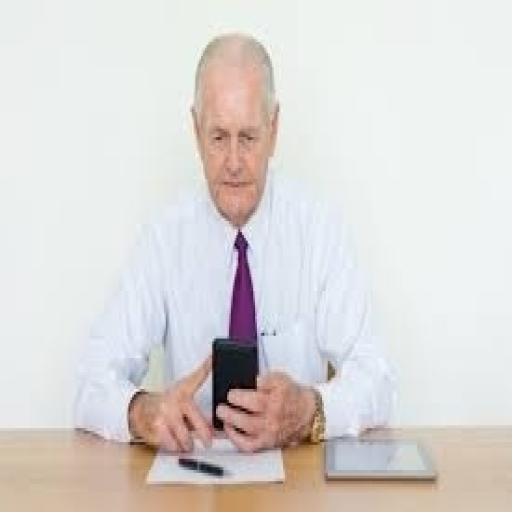texting: (72, 28, 398, 456)
